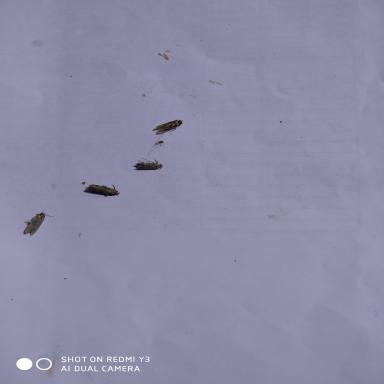pbw: (24, 212, 54, 236), (154, 119, 184, 134), (133, 157, 163, 170), (85, 184, 120, 195)
